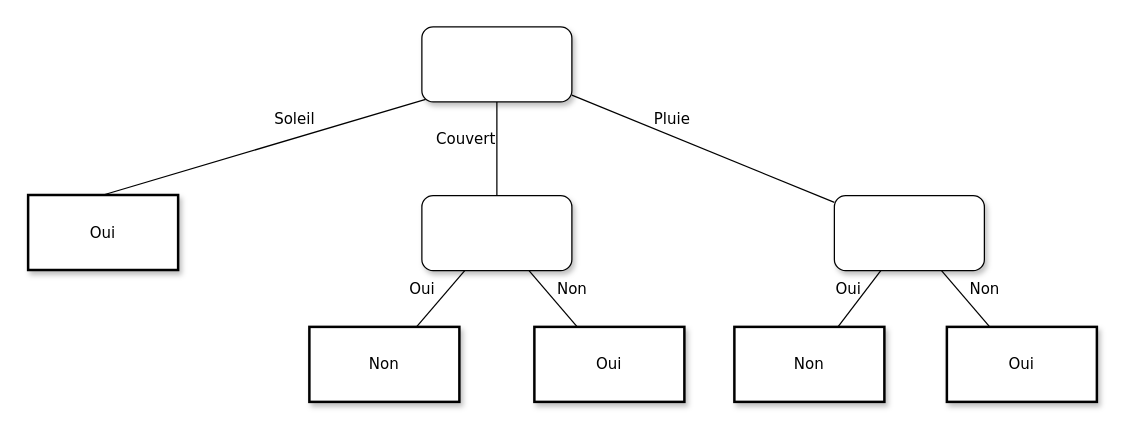
Image size: 1126x434. Some labels were removed from this diagram. The centre of each missing label's shape, as x and y in pixels:
"Ai-je fait au moins une fois du sport ces trois derniers jours ?" goes at (x=910, y=234).
"Quel temps fait-il ?" goes at (x=497, y=66).
"Y a-t-il beaucoup de vent ?" goes at (x=497, y=234).
